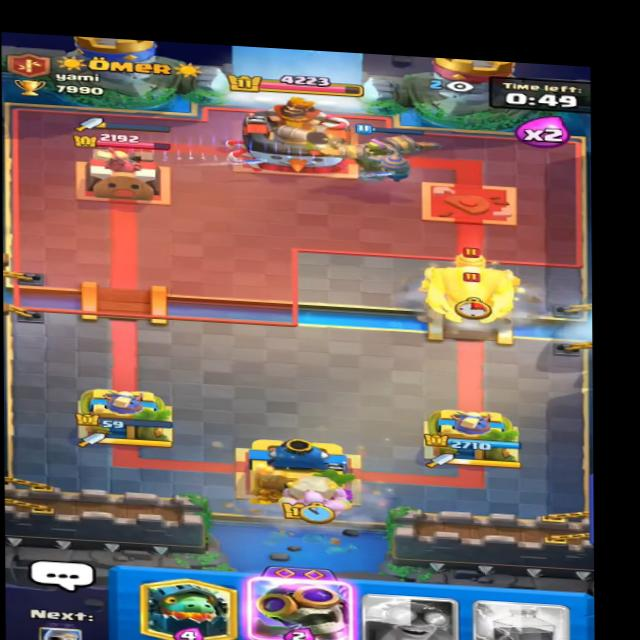giant: (424, 260, 527, 324)
